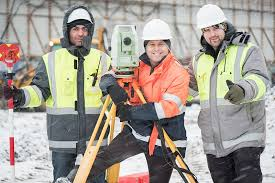Hard Hat: (195, 5, 226, 27), (141, 19, 171, 40), (66, 8, 94, 24)
High Viz: (199, 43, 254, 134), (46, 52, 104, 128), (126, 64, 182, 131)
